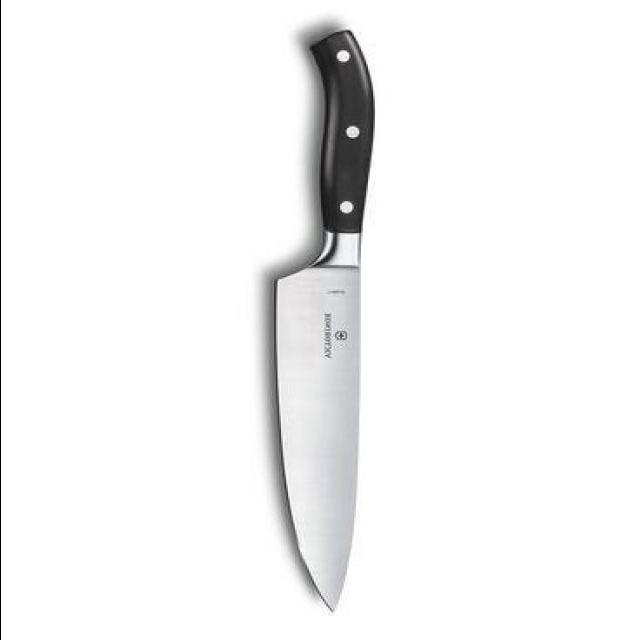knife: (226, 14, 389, 623)
